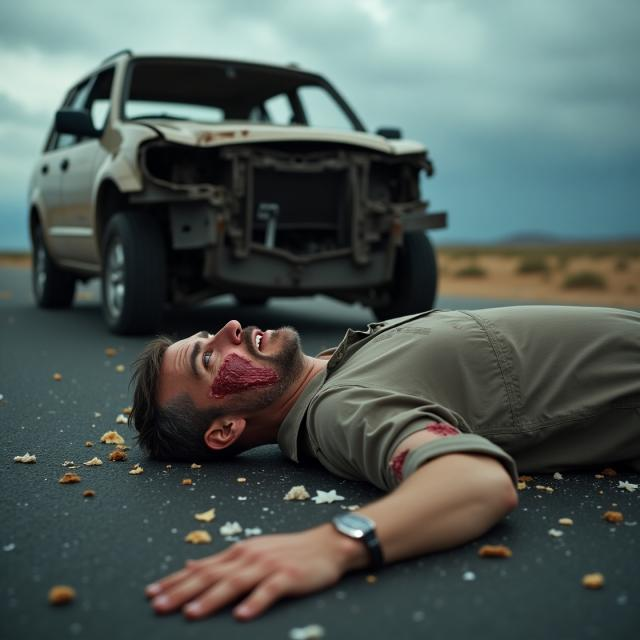injury: (198, 347, 296, 403), (374, 435, 413, 486), (420, 417, 464, 439)
